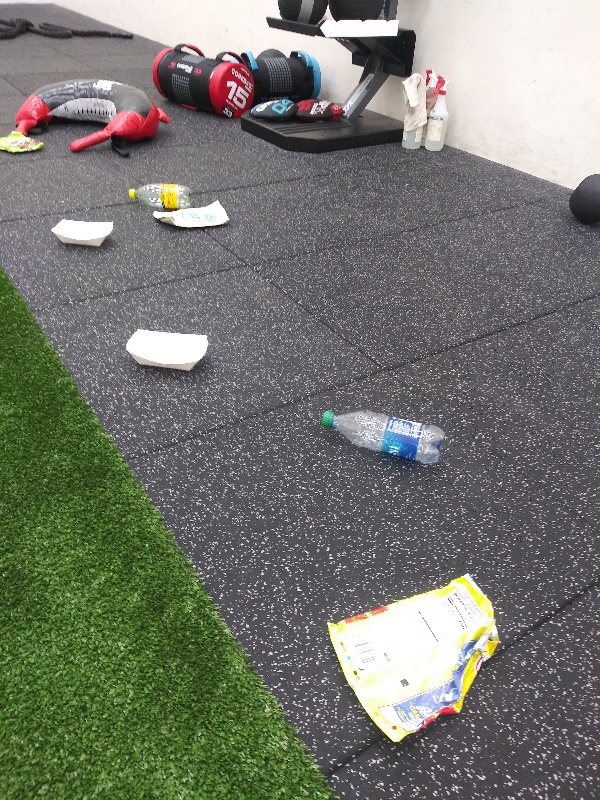bag: (323, 568, 507, 752), (148, 197, 232, 238), (1, 126, 51, 162)
bottle: (315, 402, 452, 471), (123, 179, 197, 211)
plate: (121, 326, 212, 374), (48, 215, 119, 251)
